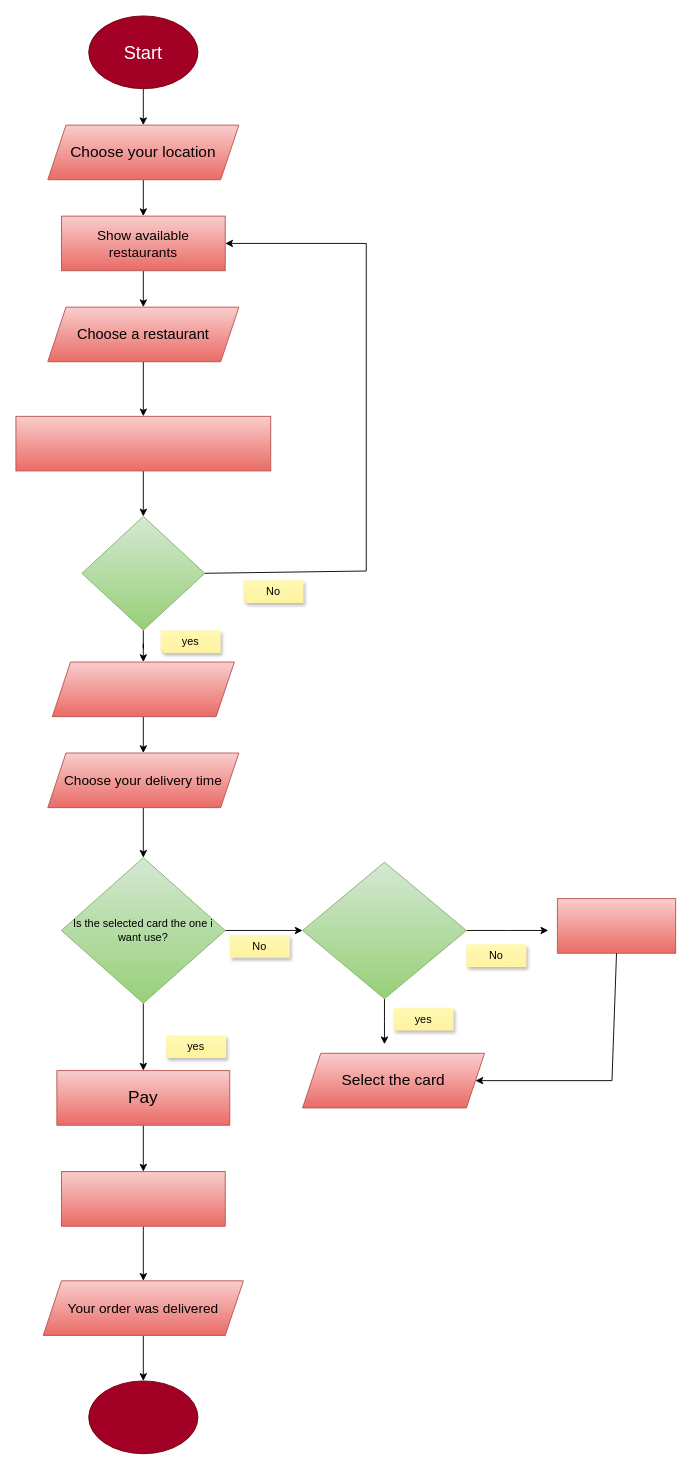
Image size: 692x1470. Some labels were removed from this diagram. Each missing label, with the centre of its shape:
Add the new card: (616,925)
Choose your menu: (142,689)
Is open?: (143,573)
is the card listed?: (384,930)
processing the order confirmation: (143,1198)
Show the chosen restaurant details: (143,443)
Stop: (143,1417)
